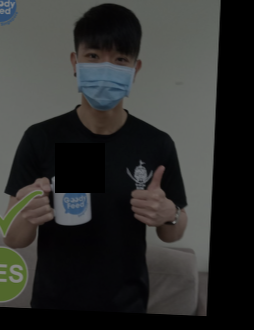with_mask: (74, 45, 133, 113)
